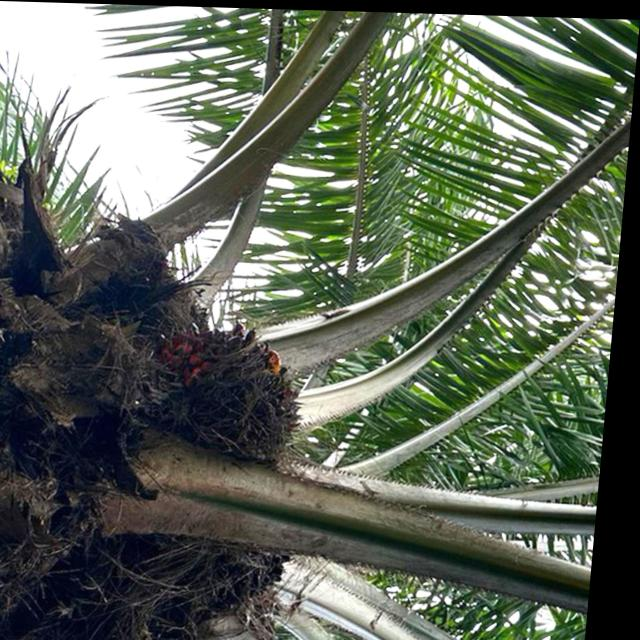ripe: (137, 300, 334, 485)
